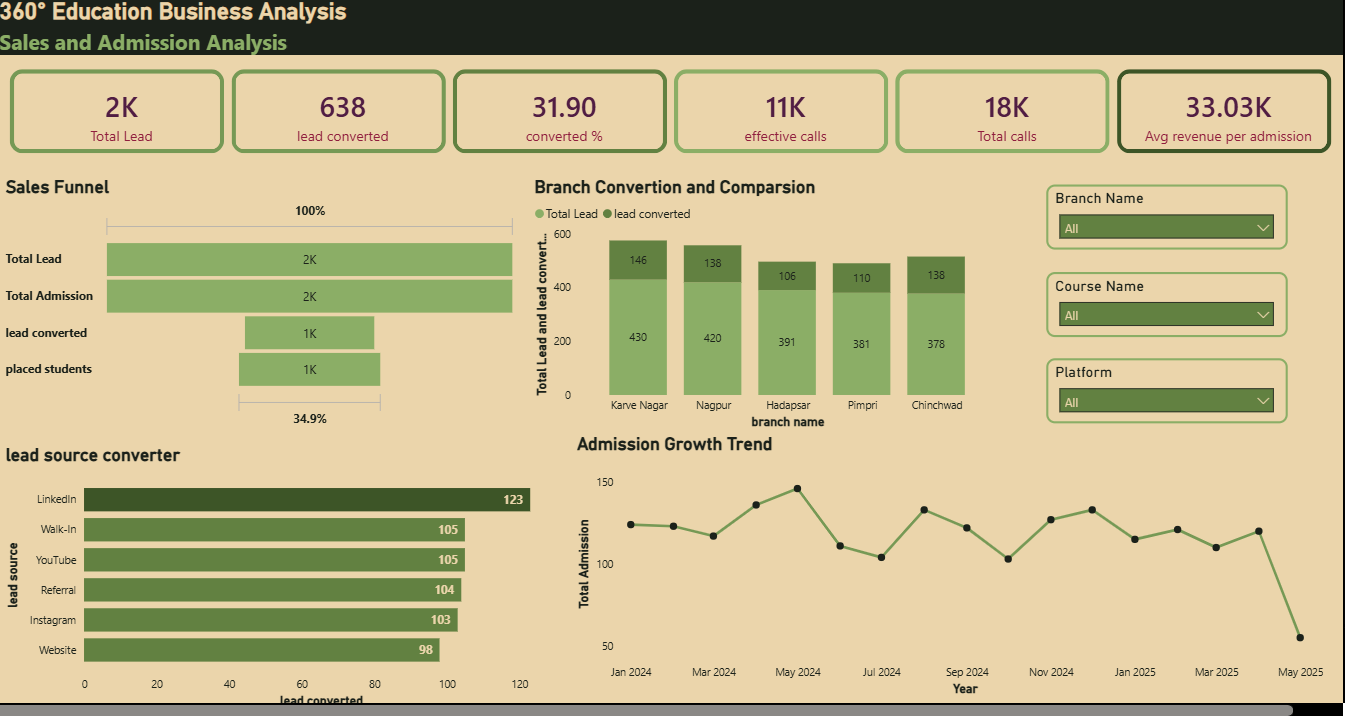

What the dashboard file says about the page in this screenshot:
{"tool":"powerbi","page":{"name":"sales and admission analysis","canvas":[1600,900],"ordinal":1},"visuals":[{"type":"funnel","title":"Sales Funnel","fields":{"Y":["Lead measure.Total Lead","student measure.Total Admission","Lead measure.lead converted","placement measures.placed students"]},"box":[7.1,204.3,594.3,294.3],"z":7000},{"type":"clusteredBarChart","title":"lead source converter","fields":{"Y":["Lead measure.lead converted"],"Category":["Leads.lead source"]},"box":[7.1,511.4,652.9,305.7],"z":8000},{"type":"columnChart","title":"Branch Conversion and Comparsion","fields":{"Y":["Lead measure.Total Lead","Lead measure.lead converted"],"Category":["Branches.branch name"]},"box":[611.4,204.3,538.6,294.3],"z":10000},{"type":"lineChart","title":"Admission Growth Trend","fields":{"Y":["student measure.Total Admission"],"Category":["Admissions.admission date.Variation.Date Hierarchy.Year","Admissions.admission date.Variation.Date Hierarchy.Month"]},"box":[660,498.6,862.9,305.7],"z":11000},{"type":"textbox","title":"360° Education Business Analysis","box":[0,0,1544.3,65.7],"z":11001},{"type":"cardVisual","fields":{"Data":["Lead measure.Total Lead","Lead measure.lead converted","Lead measure.converted %","call measures.effective calls","call measures.Total calls","Revenue Measures.Avg revenue per admission"]},"box":[0,65.7,1544.3,130],"z":11002},{"type":"slicer","title":"Branch Name","fields":{"Values":["Branches.branch name"]},"box":[1201.4,214.3,275.7,74.3],"z":11003},{"type":"slicer","title":"Course Name","fields":{"Values":["Courses.course name"]},"box":[1201.4,314.3,275.7,74.3],"z":11004},{"type":"slicer","title":"Platform","fields":{"Values":["Marketing.platform"]},"box":[1201.4,412.9,275.7,74.3],"z":11005}]}

Visuals, with their boxes on the page's 1600x900 design canvas (x1, y1, x2, y2). These are canvas units, not pixel positions in the 1345x716 screenshot, which may show the page scaled, cropped or inside an application window:
"Sales Funnel" funnel: <bbox>7, 204, 601, 499</bbox>
"lead source converter" clusteredBarChart: <bbox>7, 511, 660, 817</bbox>
"Branch Conversion and Comparsion" columnChart: <bbox>611, 204, 1150, 499</bbox>
"Admission Growth Trend" lineChart: <bbox>660, 499, 1523, 804</bbox>
"360° Education Business Analysis" textbox: <bbox>0, 0, 1544, 66</bbox>
cardVisual - Lead measure.Total Lead x Lead measure.lead converted: <bbox>0, 66, 1544, 196</bbox>
"Branch Name" slicer: <bbox>1201, 214, 1477, 289</bbox>
"Course Name" slicer: <bbox>1201, 314, 1477, 389</bbox>
"Platform" slicer: <bbox>1201, 413, 1477, 487</bbox>
